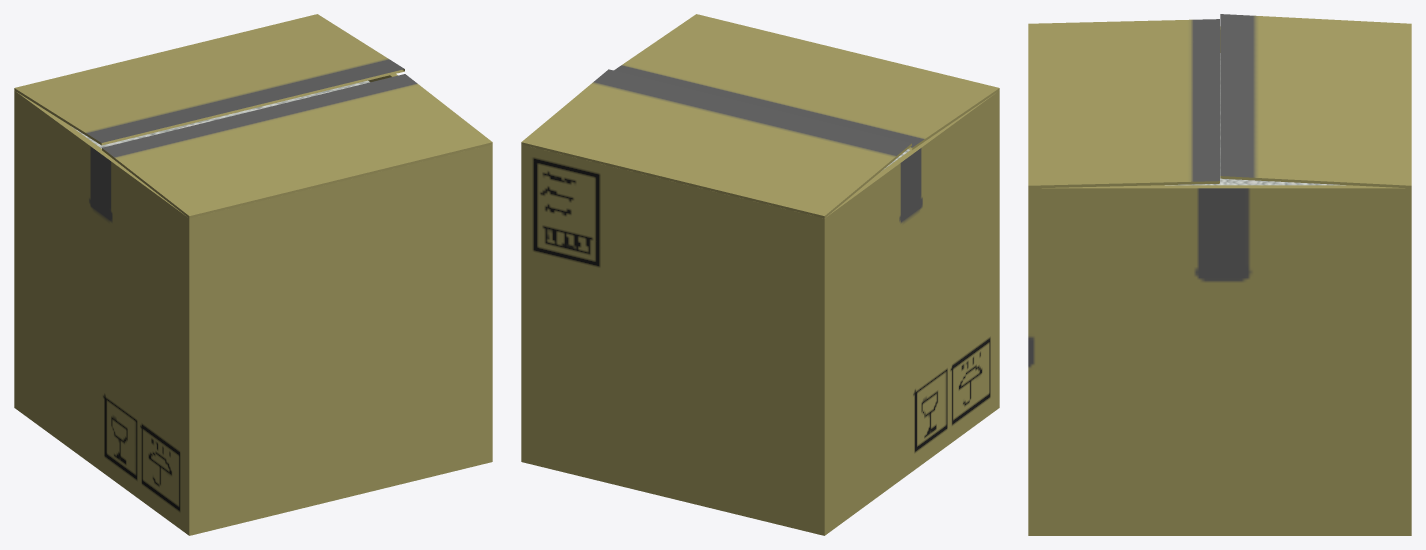
File: Prop_Cardbox.fbx
The picture shows the model from 3 angles, left to right: view 1: azimuth 30°, elevation 25°; view 2: azimuth 150°, elevation 25°; view 3: azimuth 270°, elevation 25°; orthographic projection. The views are drawn at different scales.
Visible parts, largest first — view 1: Box, Cube.020, Cube.019; view 2: Box, Cube.019, Cube.020; view 3: Box, Cube.020, Cube.019.
Boxes of the visible parts, box(x1,y1,x2,y2) form: Box: box(14, 74, 492, 535); Cube.020: box(102, 74, 492, 218); Cube.019: box(14, 14, 404, 145); Box: box(521, 90, 999, 535); Cube.019: box(521, 69, 911, 218); Cube.020: box(614, 14, 999, 149); Box: box(1028, 26, 1411, 535); Cube.020: box(1028, 19, 1219, 188); Cube.019: box(1220, 14, 1411, 188).
Size of the model in its own units: 58.76 by 60.87 by 58.78.
